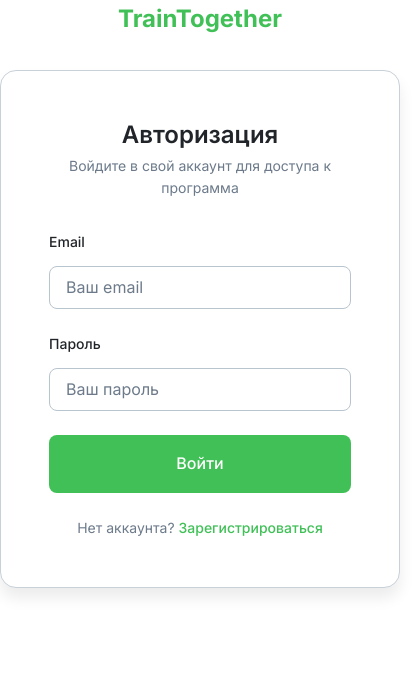
Scenario: login form › all fields are empty
Click the button "Войти" at (200, 464), box [49,435,351,493]
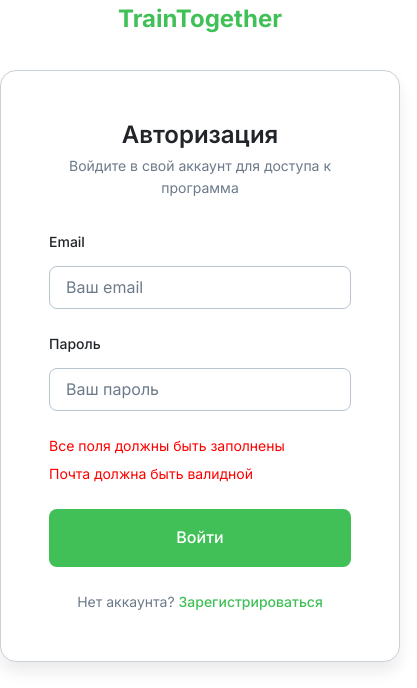
Expected: the text "Все поля должны быть заполнены" is shown, [49,435,285,458]
Expected: the text "Почта должна быть валидной" is shown, [49,463,253,485]
